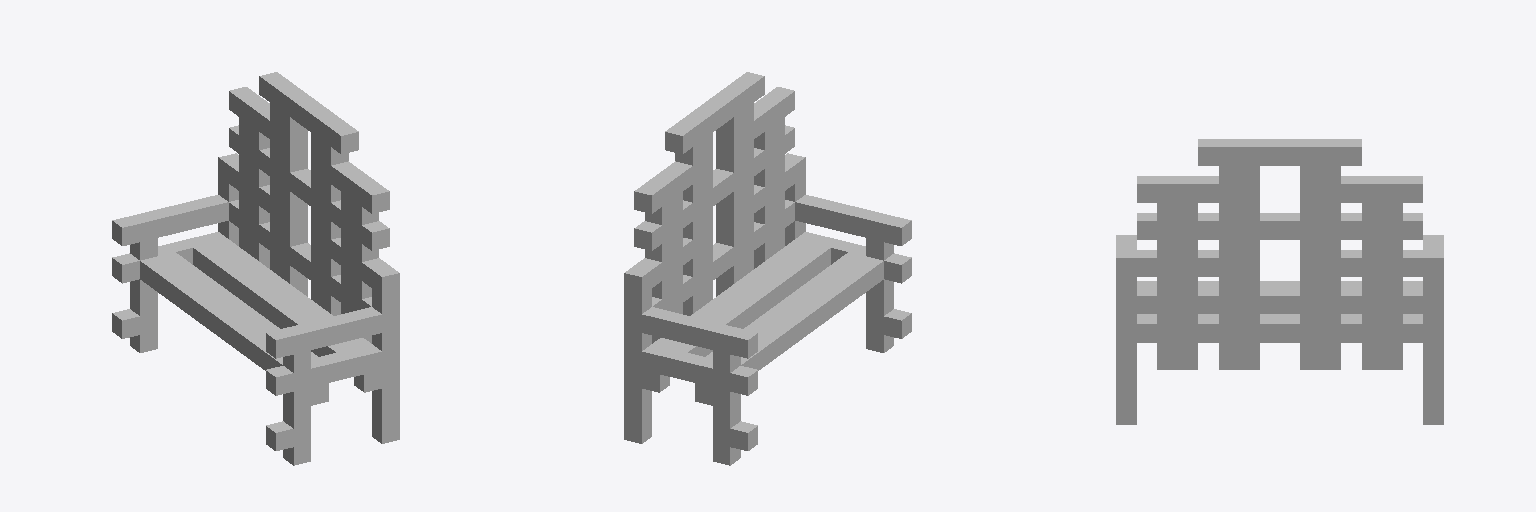
Rendered from villageChair-0.obj.
3 renders of one model, left to right at view 1: azimuth 30°, elevation 25°; view 2: azimuth 150°, elevation 25°; view 3: azimuth 270°, elevation 25°, orthographic.
Visible parts, largest first — view 1: object 1; view 2: object 1; view 3: object 1.
Part boxes in pixels (left/top/right/bottom): object 1: left=112, top=72, right=399, bottom=465; object 1: left=624, top=72, right=911, bottom=465; object 1: left=1116, top=139, right=1443, bottom=424.
Bounding box in the file's own units: 0.7 × 1.5 × 1.6.